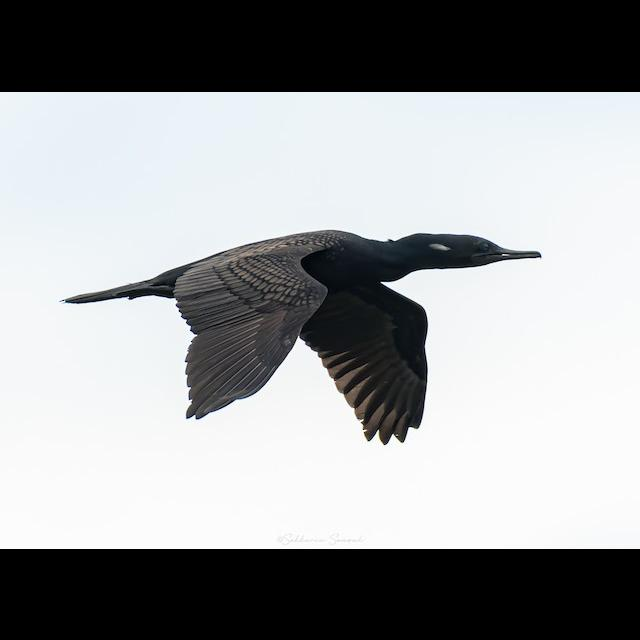cormorant: (61, 227, 542, 445)
